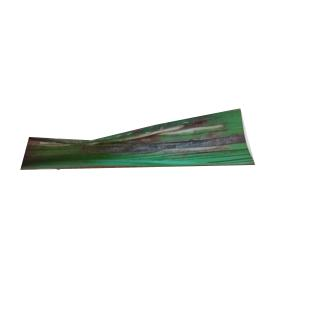Hawar-Daun: (111, 114, 238, 165), (21, 139, 82, 168)
